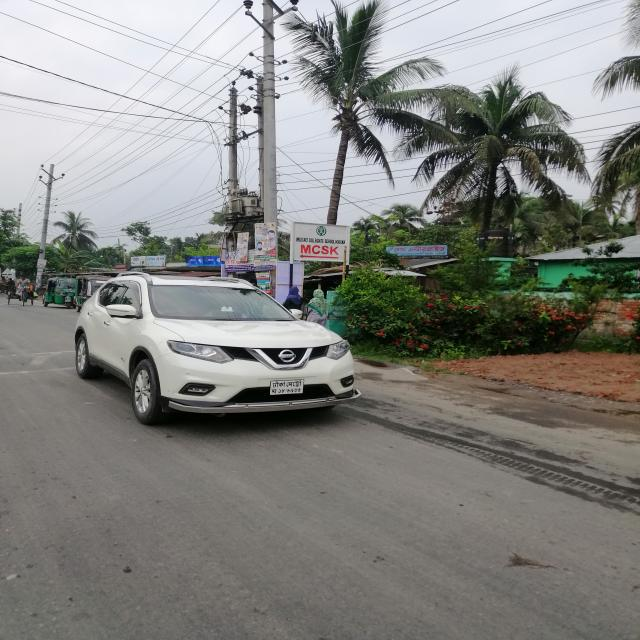Car: (70, 265, 363, 421)
